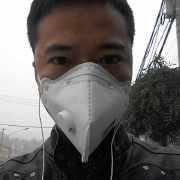OK: (35, 40, 134, 143)
